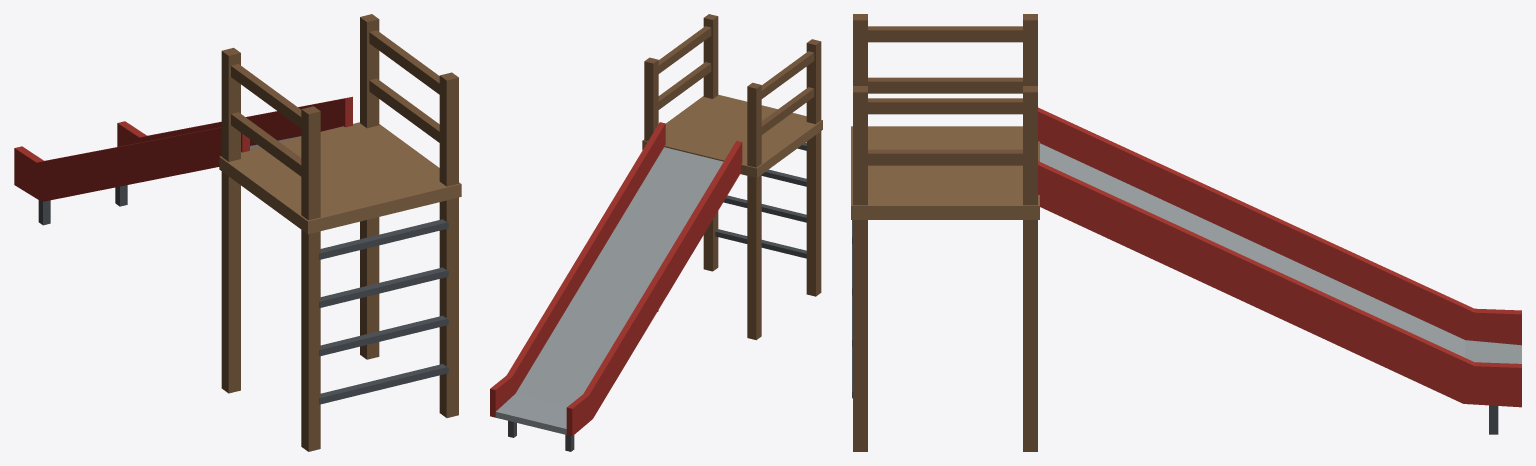
File: toboggan.glb
3 renders of one model, left to right at view 1: azimuth 30°, elevation 25°; view 2: azimuth 150°, elevation 25°; view 3: azimuth 270°, elevation 25°, orthographic. The views are drawn at different scales.
Visible parts, largest first — view 1: posts, platform, wall_l, rungs, guards, wall_r, chute_legs; view 2: chute, posts, wall_l, platform, wall_r, guards, rungs; view 3: wall_r, wall_l, platform, posts, guards, chute.
Part boxes in pixels (x1,y1,x2,y2): posts: (221, 14, 458, 451); platform: (219, 122, 461, 234); wall_l: (14, 127, 249, 201); rungs: (319, 219, 448, 404); guards: (231, 30, 439, 176); wall_r: (117, 96, 352, 146); chute_legs: (38, 185, 127, 225); chute: (495, 147, 723, 434); posts: (644, 14, 821, 340); wall_l: (566, 140, 742, 436); platform: (642, 94, 822, 177); wall_r: (490, 122, 665, 417); guards: (658, 26, 814, 134); rungs: (715, 142, 806, 258); wall_r: (1038, 161, 1521, 407); wall_l: (1038, 107, 1521, 345); platform: (851, 126, 1039, 219); posts: (853, 14, 1037, 451); guards: (868, 26, 1022, 165); chute: (1040, 143, 1521, 363).
Bounding box in the file's own units: 1 × 2.1 × 3.55.
5 materials, 5 textured.
